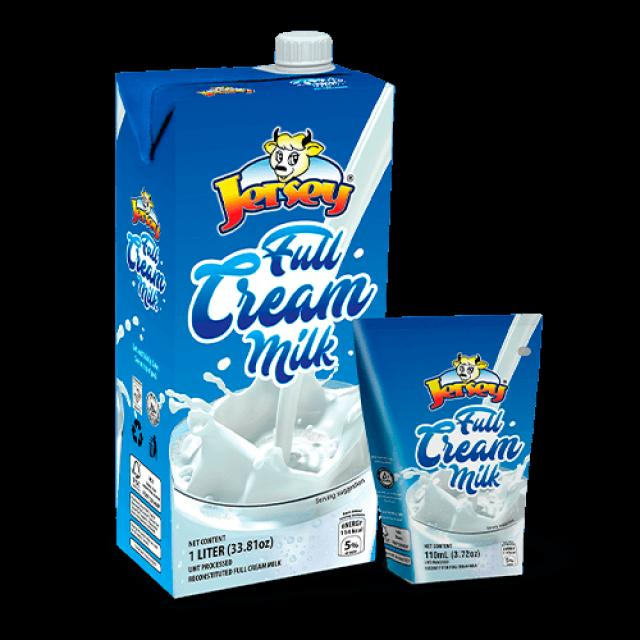non_white_jug: (101, 48, 396, 596)
